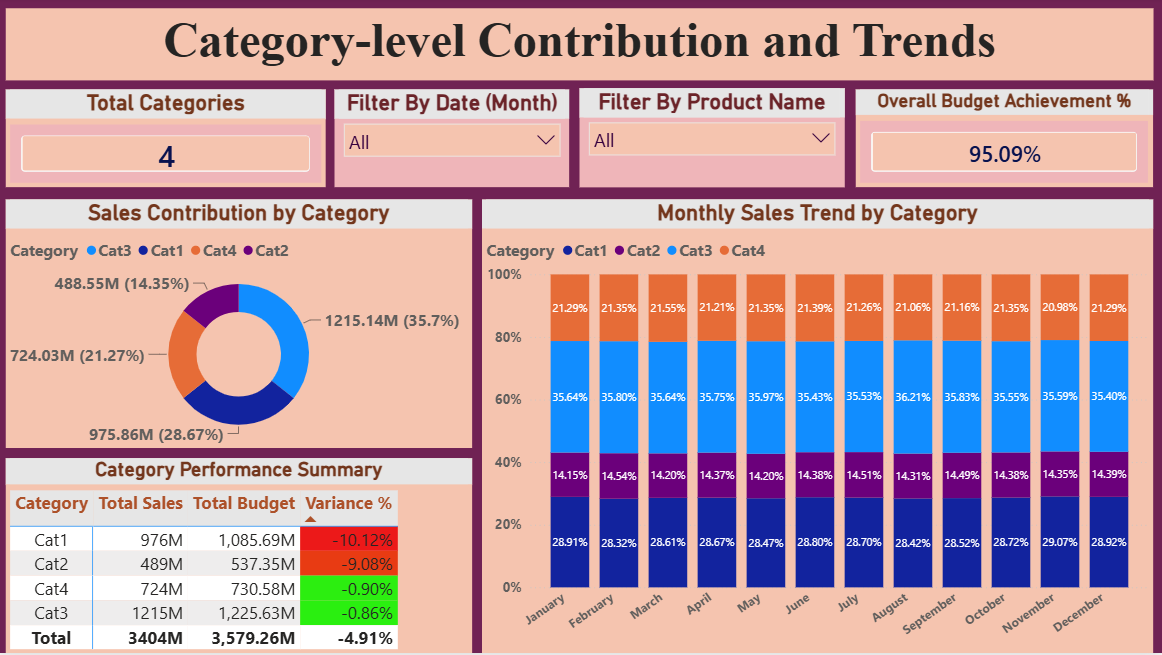

What the dashboard file says about the page in this screenshot:
{"tool":"powerbi","page":{"name":"Category Analysis","canvas":[1280,720],"ordinal":2},"visuals":[{"type":"textbox","box":[9.6,12.3,1259.7,79.6],"z":0},{"type":"pivotTable","title":"Category Performance Summary","fields":{"Rows":["Product Master.Category"],"Values":["Sales.Total Sales","Budget.Total Budget","Sales.Variance %"]},"box":[9.6,506.3,511.8,214.1],"z":1000},{"type":"hundredPercentStackedColumnChart","title":"Monthly Sales Trend by Category","fields":{"Series":["Product Master.Category"],"Y":["Sales.Total Sales"],"Category":["Sales.Date.Variation.Date Hierarchy.Month"]},"box":[532.4,222.3,736.9,498.1],"z":2000},{"type":"cardVisual","title":"Total Categories","fields":{"Data":["Product Master.Total Categories"]},"box":[9.6,101.5,351.3,107],"z":3000},{"type":"cardVisual","title":"Overall Budget Achievement %","fields":{"Data":["Budget.Achievement %"]},"box":[942.7,101.5,326.6,107],"z":4000},{"type":"donutChart","title":"Sales Contribution by Category","fields":{"Y":["Sales.Total Sales"],"Category":["Product Master.Category"]},"box":[9.6,222.3,511.8,273.1],"z":5000},{"type":"slicer","title":"Filter By Date (Month)","fields":{"Values":["Sales.Date.Variation.Date Hierarchy.Month"]},"box":[370.5,101.5,258,107],"z":6000},{"type":"slicer","title":"Filter By Product Name","fields":{"Values":["Product Master.Product Name"]},"box":[639.5,100.2,290.9,108.4],"z":7000}]}

Visuals, with their boxes in screenshot pixels (x1, y1, x2, y2), scaled from the page's 1280x720 canvas onto the 1162x655 screenshot:
textbox: {"x1": 9, "y1": 11, "x2": 1152, "y2": 84}
"Category Performance Summary" pivotTable: {"x1": 9, "y1": 461, "x2": 473, "y2": 654}
"Monthly Sales Trend by Category" hundredPercentStackedColumnChart: {"x1": 483, "y1": 202, "x2": 1152, "y2": 654}
"Total Categories" cardVisual: {"x1": 9, "y1": 92, "x2": 328, "y2": 190}
"Overall Budget Achievement %" cardVisual: {"x1": 856, "y1": 92, "x2": 1152, "y2": 190}
"Sales Contribution by Category" donutChart: {"x1": 9, "y1": 202, "x2": 473, "y2": 451}
"Filter By Date (Month)" slicer: {"x1": 336, "y1": 92, "x2": 571, "y2": 190}
"Filter By Product Name" slicer: {"x1": 581, "y1": 91, "x2": 845, "y2": 190}
